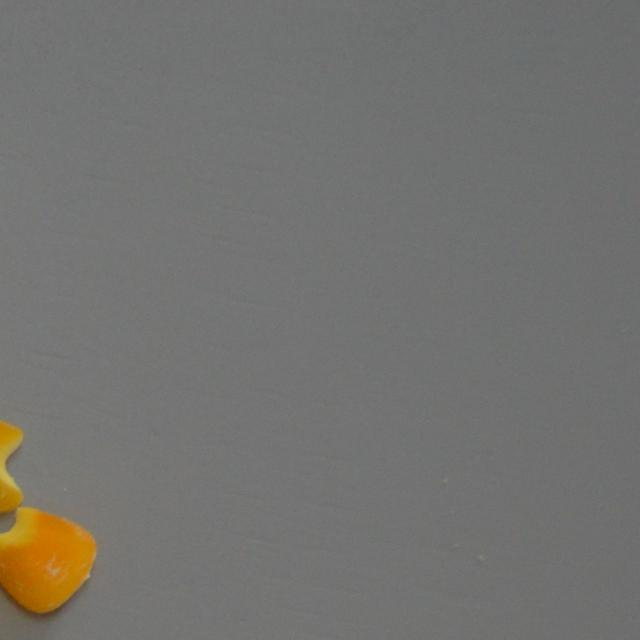pelicula: (0, 506, 98, 614)
